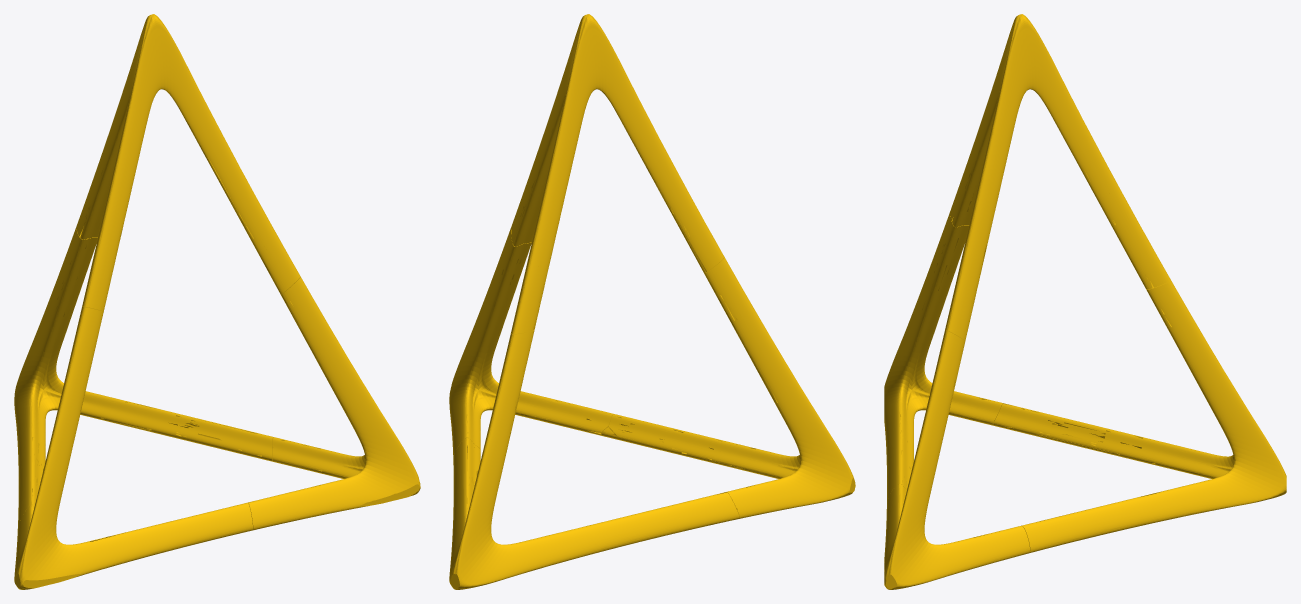
Rendered from triangleAnimation.gltf.
3 renders of one model, left to right at view 1: azimuth 30°, elevation 25°; view 2: azimuth 150°, elevation 25°; view 3: azimuth 270°, elevation 25°, orthographic.
Parts seen in each view (by area): view 1: Cone_cell.003, Cone_cell.001, Cone_cell.002, Cone_cell; view 2: Cone_cell.003, Cone_cell, Cone_cell.002, Cone_cell.001; view 3: Cone_cell, Cone_cell.003, Cone_cell.001, Cone_cell.002.
Boxes of the visible parts, box(x1,y1,x2,y2) form: Cone_cell.003: box(76, 14, 300, 311); Cone_cell.001: box(248, 276, 420, 530); Cone_cell.002: box(14, 307, 252, 589); Cone_cell: box(14, 227, 273, 526); Cone_cell.003: box(511, 14, 724, 333); Cone_cell: box(449, 330, 739, 589); Cone_cell.002: box(608, 257, 855, 518); Cone_cell.001: box(449, 226, 613, 456); Cone_cell: box(993, 280, 1286, 553); Cone_cell.003: box(945, 14, 1170, 340); Cone_cell.001: box(884, 330, 1029, 589); Cone_cell.002: box(884, 211, 1003, 500).
Size of what is drawn, in the model's own units: 2.82 by 3.23 by 2.46.
